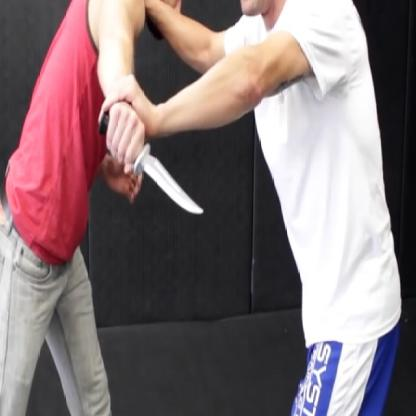knife: (97, 98, 210, 232)
